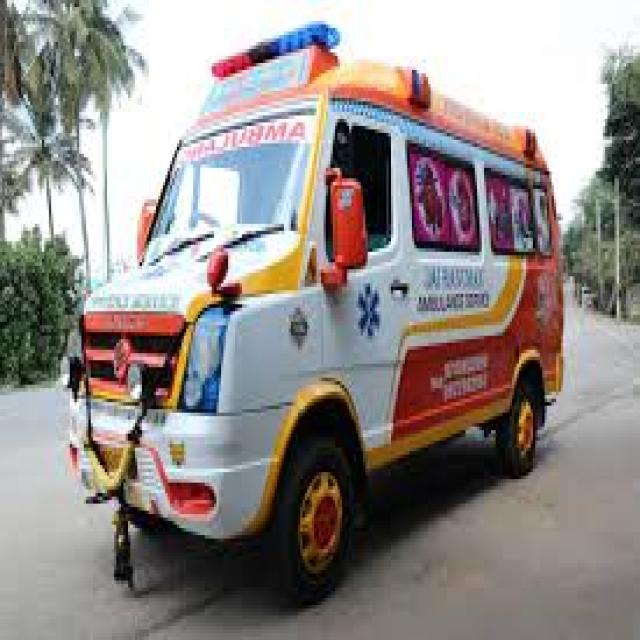ambulance: (70, 45, 561, 595)
